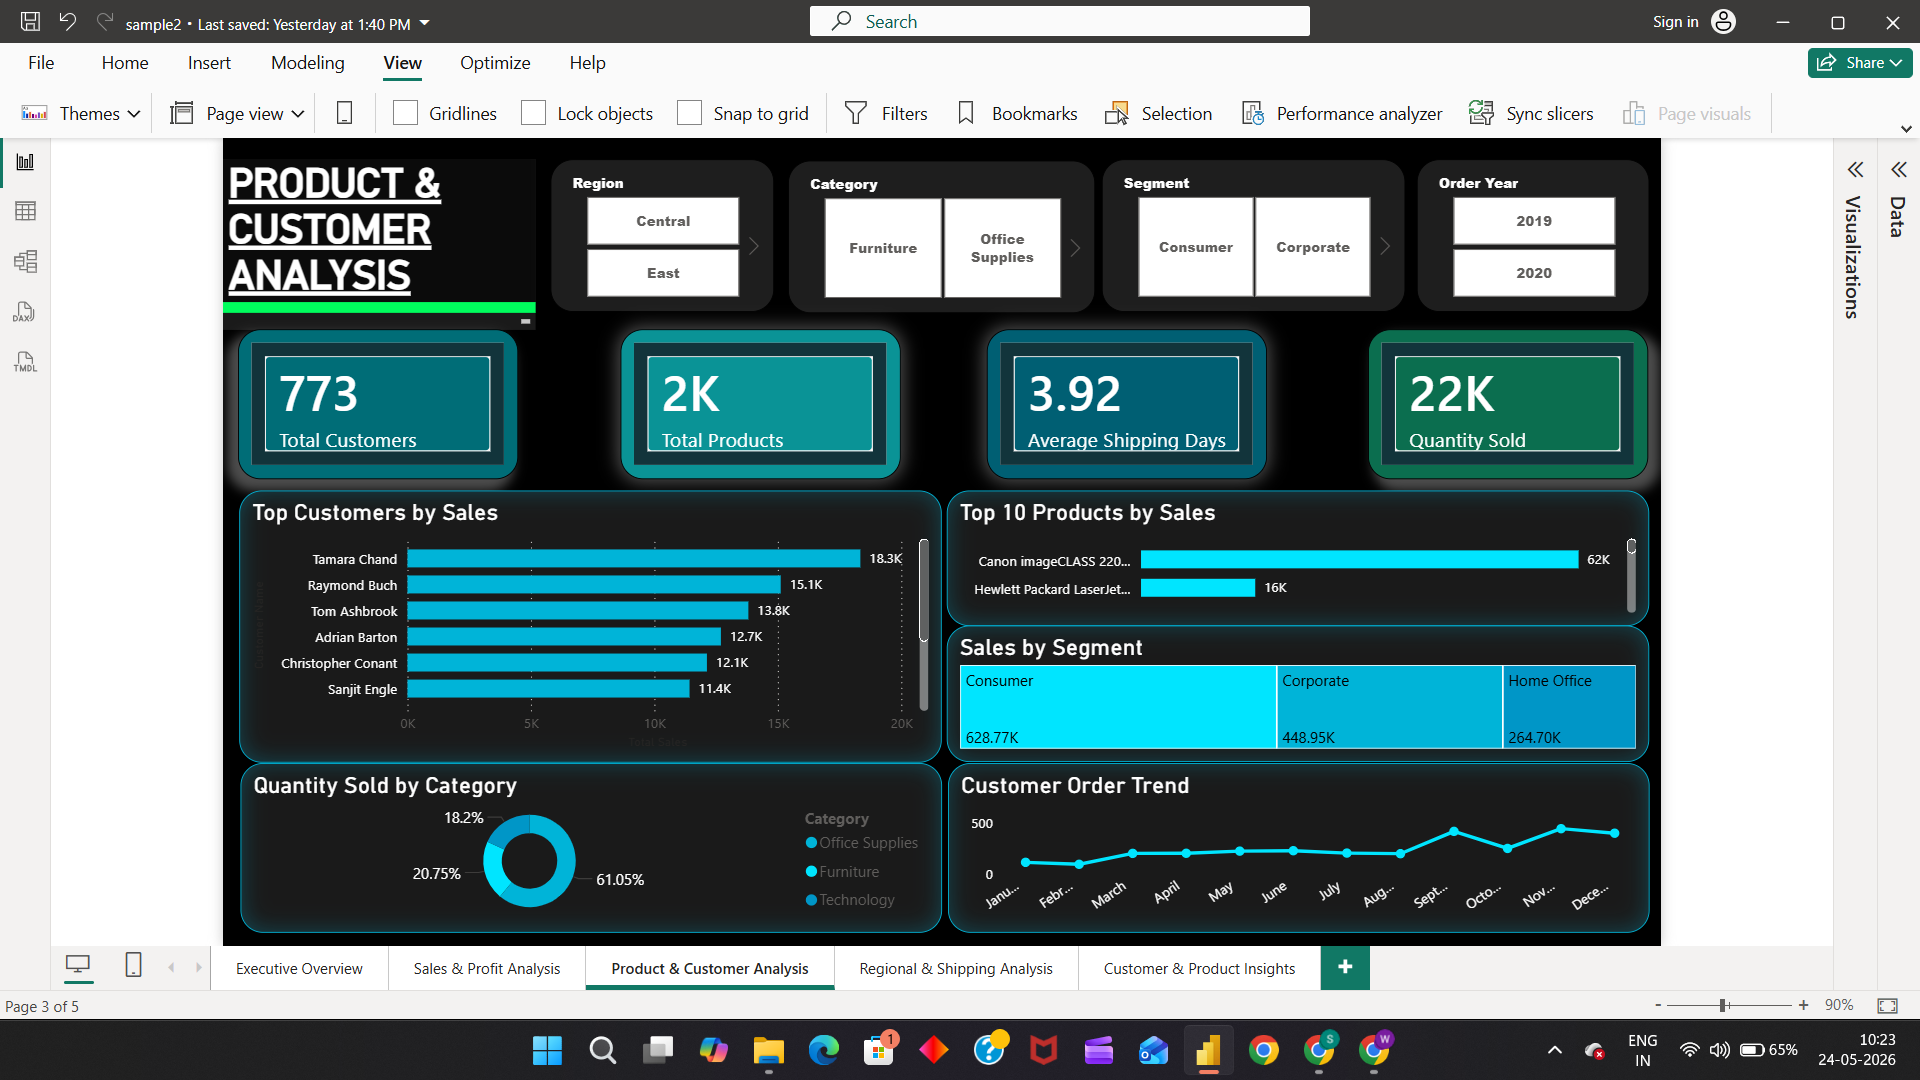

Layout of this report page (visuals, bound fields, positions):
{"tool":"powerbi","page":{"name":"Product & Customer Analysis","canvas":[1280,720],"ordinal":2},"visuals":[{"type":"textbox","title":"PRODUCT & CUSTOMER ANALYSIS","box":[0,19.3,278.7,152],"z":0},{"type":"slicer","fields":{"Values":["Orders.Order Year"]},"box":[1062.9,19.3,207.5,136.3],"z":1000},{"type":"slicer","fields":{"Values":["Orders.Segment"]},"box":[783,19.3,270.2,136.3],"z":2000},{"type":"slicer","fields":{"Values":["Orders.Category"]},"box":[503.1,20.5,273.9,136.3],"z":3000},{"type":"slicer","fields":{"Values":["Orders.Region"]},"box":[292,19.3,199.1,136.3],"z":4000},{"type":"cardVisual","fields":{"Data":["Orders.Total Products"]},"box":[353.5,170.4,250,133.8],"z":5000},{"type":"cardVisual","fields":{"Data":["Orders.Average Shipping Days"]},"box":[680.5,170.4,250,133.8],"z":6000},{"type":"cardVisual","fields":{"Data":["Orders.Quantity Sold"]},"box":[1020.2,170.4,250,133.8],"z":7000},{"type":"cardVisual","fields":{"Data":["Orders.Total Customers"]},"box":[13.9,170.4,250,133.8],"z":8000},{"type":"clusteredBarChart","title":"Top 10 Products by Sales","fields":{"Category":["Orders.Product Name"],"Y":["Orders.Total Sales"]},"box":[644.8,314.2,625.9,121],"z":9000},{"type":"clusteredBarChart","title":"Top Customers by Sales","fields":{"Category":["Orders.Customer Name"],"Y":["Orders.Total Sales"]},"box":[14.2,314.2,625.9,242],"z":10000},{"type":"donutChart","title":"Quantity Sold by Category","fields":{"Category":["Orders.Category"],"Y":["Orders.Quantity Sold"]},"box":[15.4,556.3,624.8,151.2],"z":11000},{"type":"treemap","title":"Sales by Segment","fields":{"Group":["Orders.Segment"],"Values":["Orders.Total Sales"]},"box":[644.8,434.6,625.9,121.6],"z":12000},{"type":"lineChart","title":"Customer Order Trend","fields":{"Category":["Orders.Month"],"Y":["Orders.Total Orders"]},"box":[646,556.3,624.8,151.2],"z":13000}]}

Visuals, with their boxes on the page's 1280x720 design canvas (x1, y1, x2, y2). These are canvas units, not pixel positions in the 1920x1080 screenshot, which may show the page scaled, cropped or inside an application window:
"PRODUCT & CUSTOMER ANALYSIS" textbox: BBox(0, 19, 279, 171)
slicer - Orders.Order Year: BBox(1063, 19, 1270, 156)
slicer - Orders.Segment: BBox(783, 19, 1053, 156)
slicer - Orders.Category: BBox(503, 20, 777, 157)
slicer - Orders.Region: BBox(292, 19, 491, 156)
cardVisual - Orders.Total Products: BBox(354, 170, 604, 304)
cardVisual - Orders.Average Shipping Days: BBox(680, 170, 930, 304)
cardVisual - Orders.Quantity Sold: BBox(1020, 170, 1270, 304)
cardVisual - Orders.Total Customers: BBox(14, 170, 264, 304)
"Top 10 Products by Sales" clusteredBarChart: BBox(645, 314, 1271, 435)
"Top Customers by Sales" clusteredBarChart: BBox(14, 314, 640, 556)
"Quantity Sold by Category" donutChart: BBox(15, 556, 640, 708)
"Sales by Segment" treemap: BBox(645, 435, 1271, 556)
"Customer Order Trend" lineChart: BBox(646, 556, 1271, 708)
